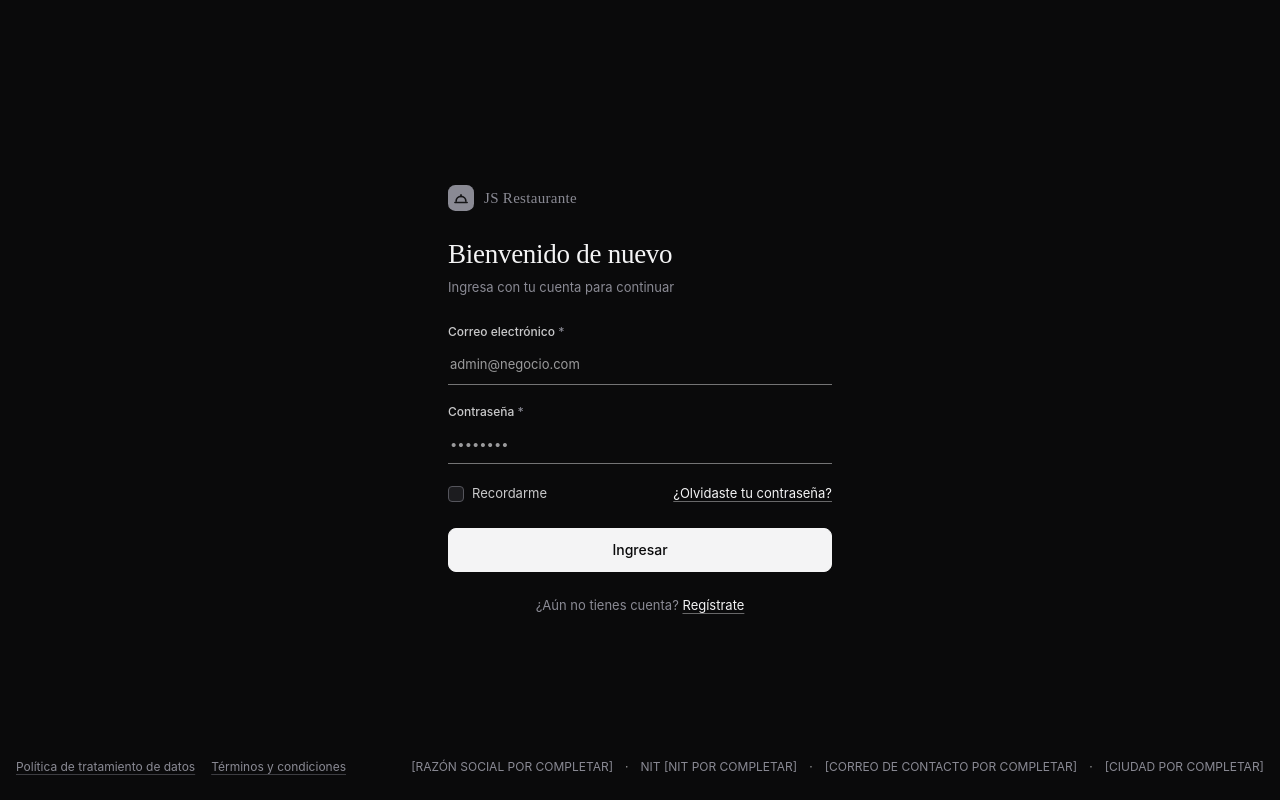
it: LoginPage › otro error: el motivo que devuelve el backend, tal cual
Type "admin@empresa.com" into the field labelled "Correo electrónico *" at (640, 365), box [448,345,832,385]
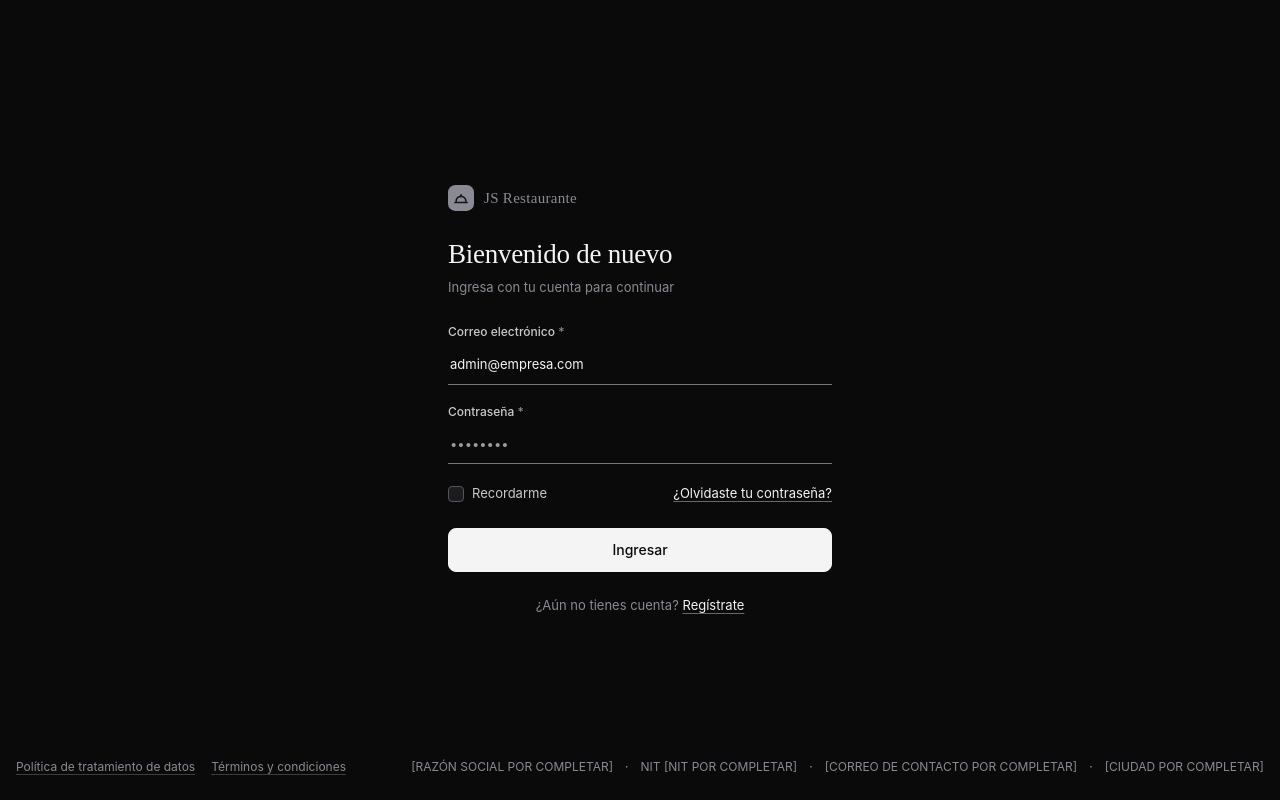
Type "clave-mala" into the password field labelled "Contraseña *" at (640, 444), box [448,424,832,464]
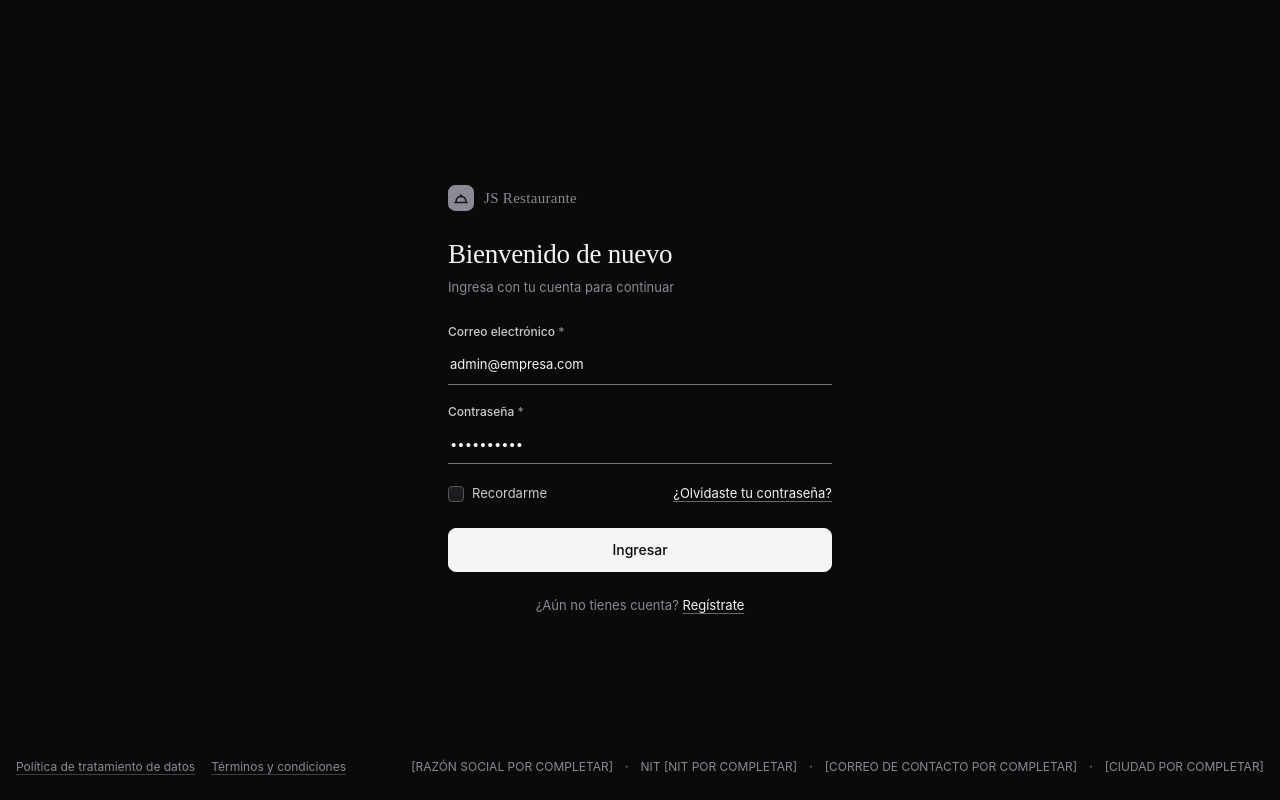
Click the button "Ingresar" at (640, 550), box [448,528,832,572]
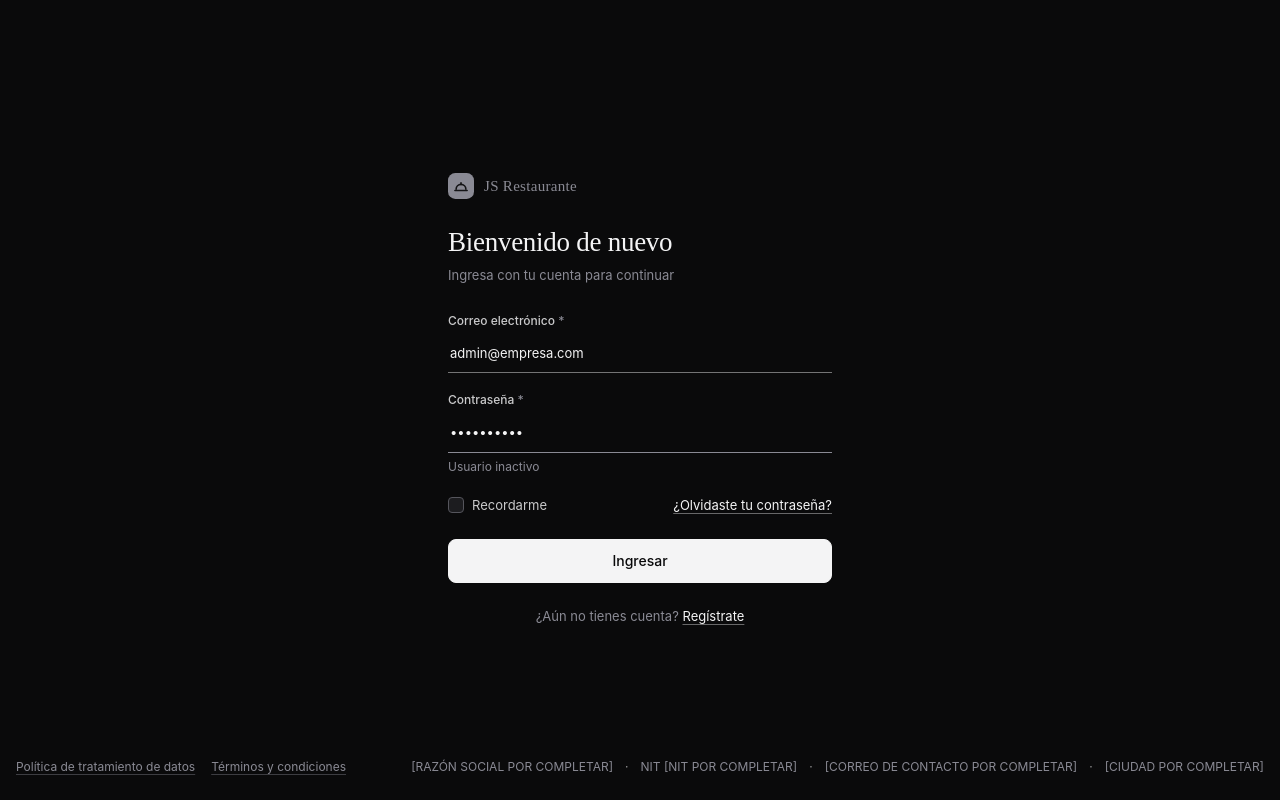
Expected: the text "Usuario inactivo" is shown, [448,459,539,474]
